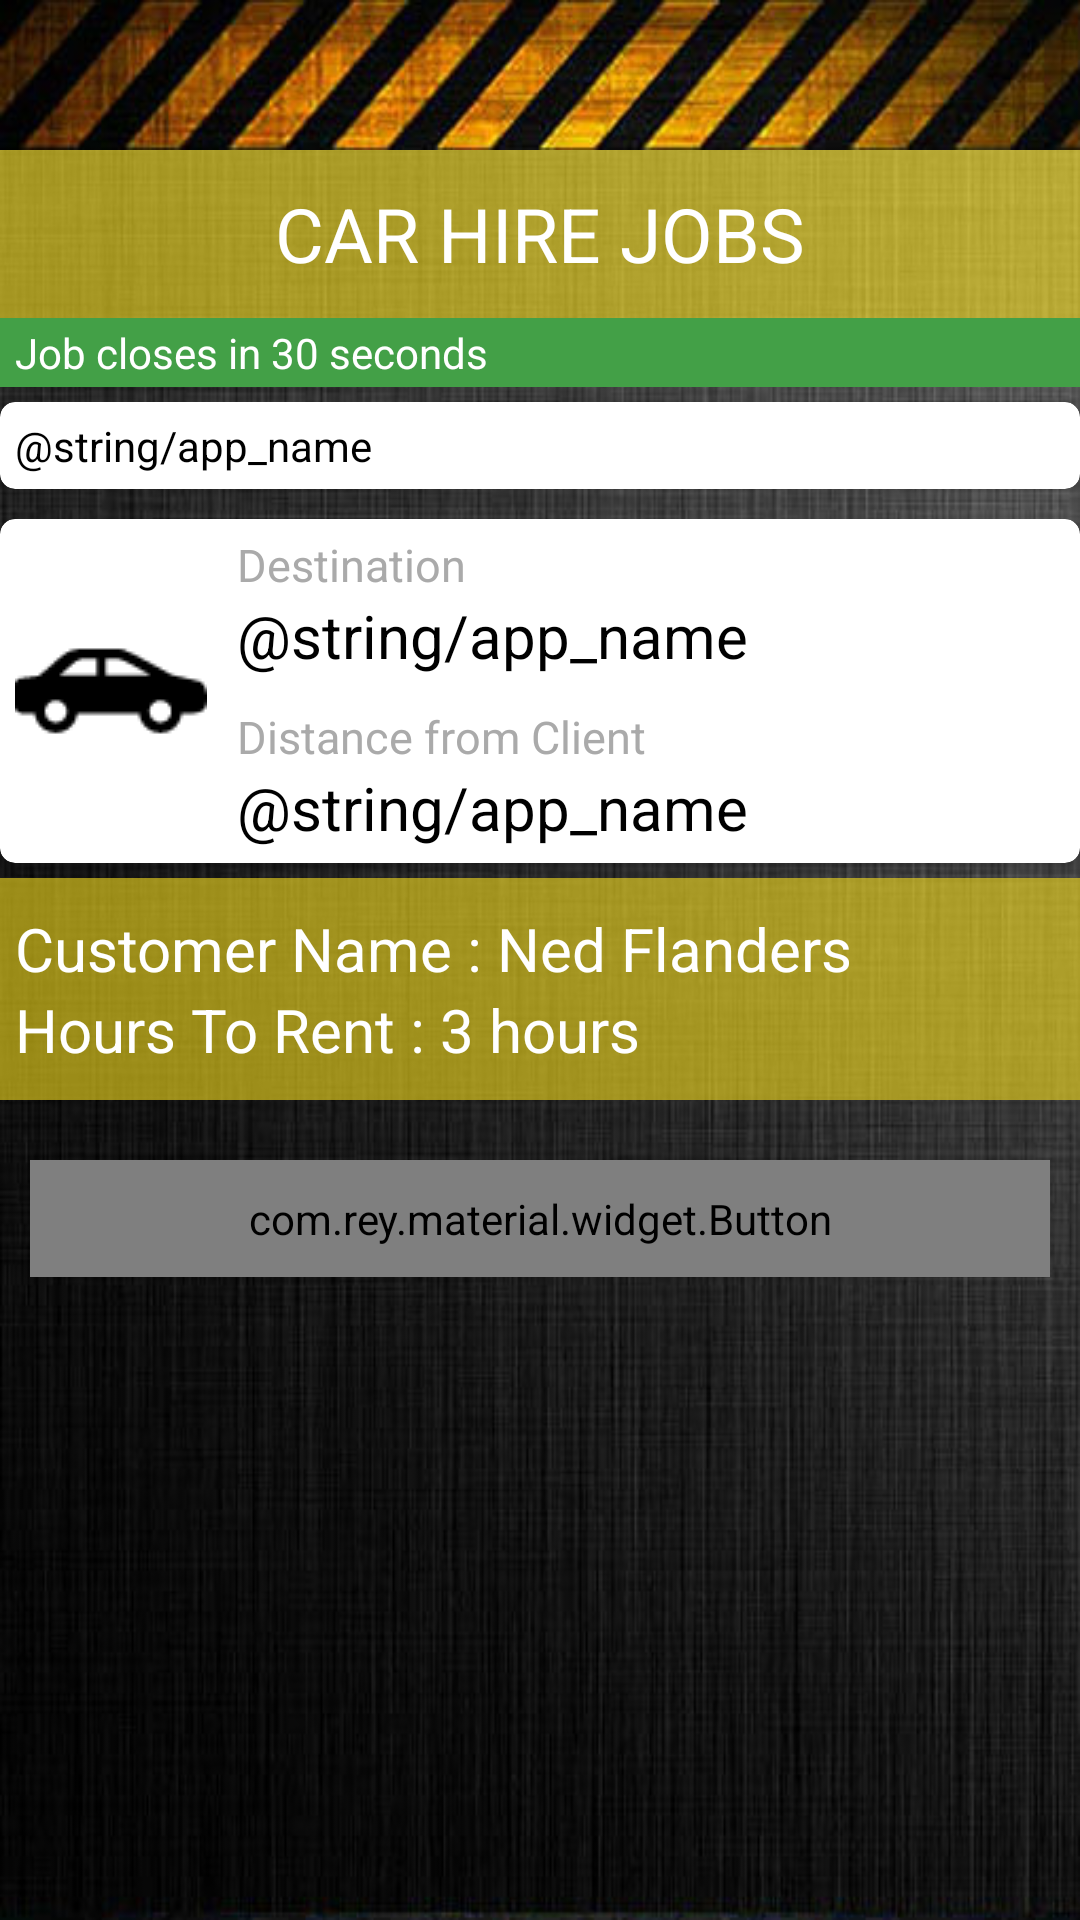

Named icons in this screenshot (1080 × 1920) and their bounding boxes, (x1, y1, x2, y2):
car hire: (15, 648, 207, 734)
